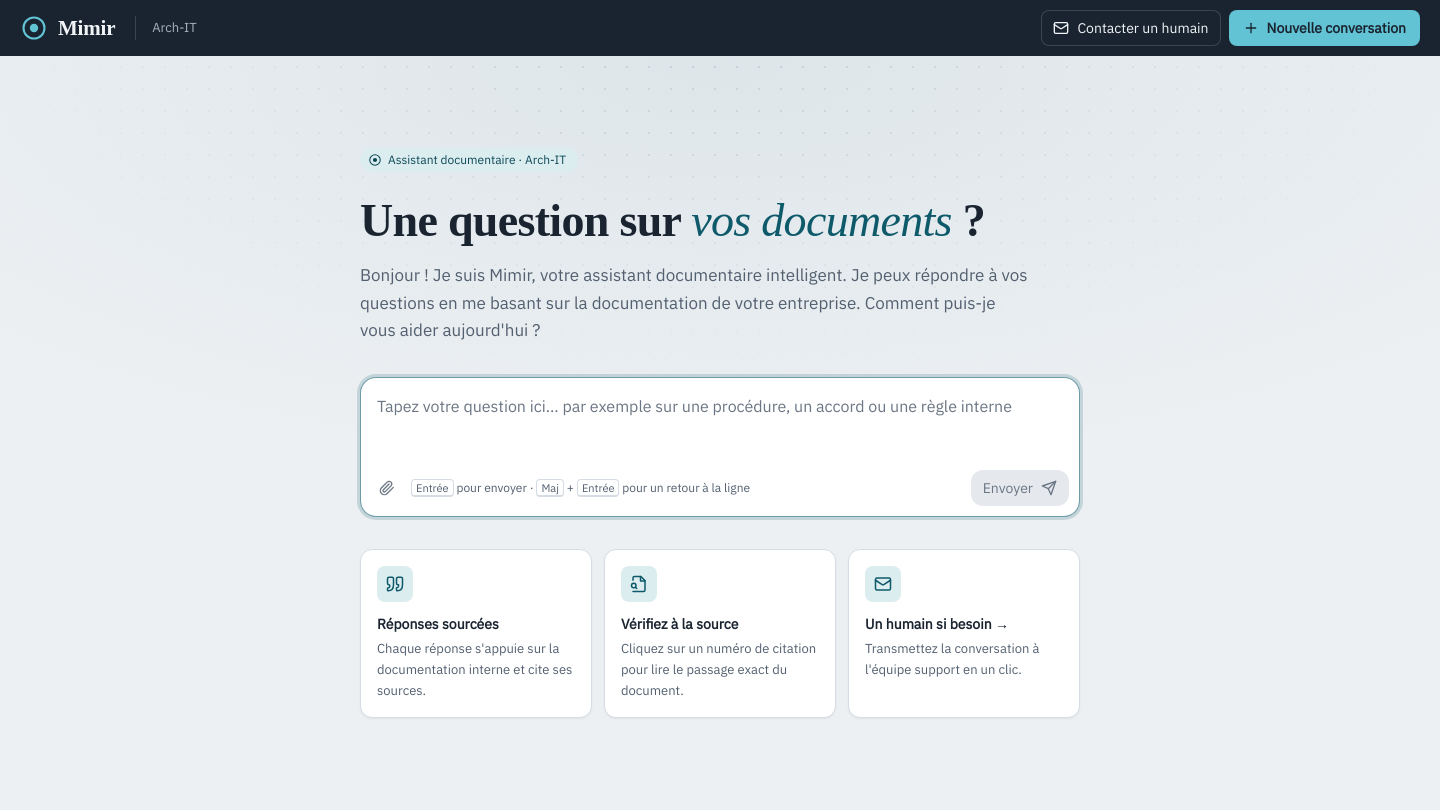
Test: ChatPage › permet d'envoyer un message
Replace the text in the text box with placeholder "Tapez votre question ici" with "Test question" at (720, 422), box [361, 378, 1079, 466]
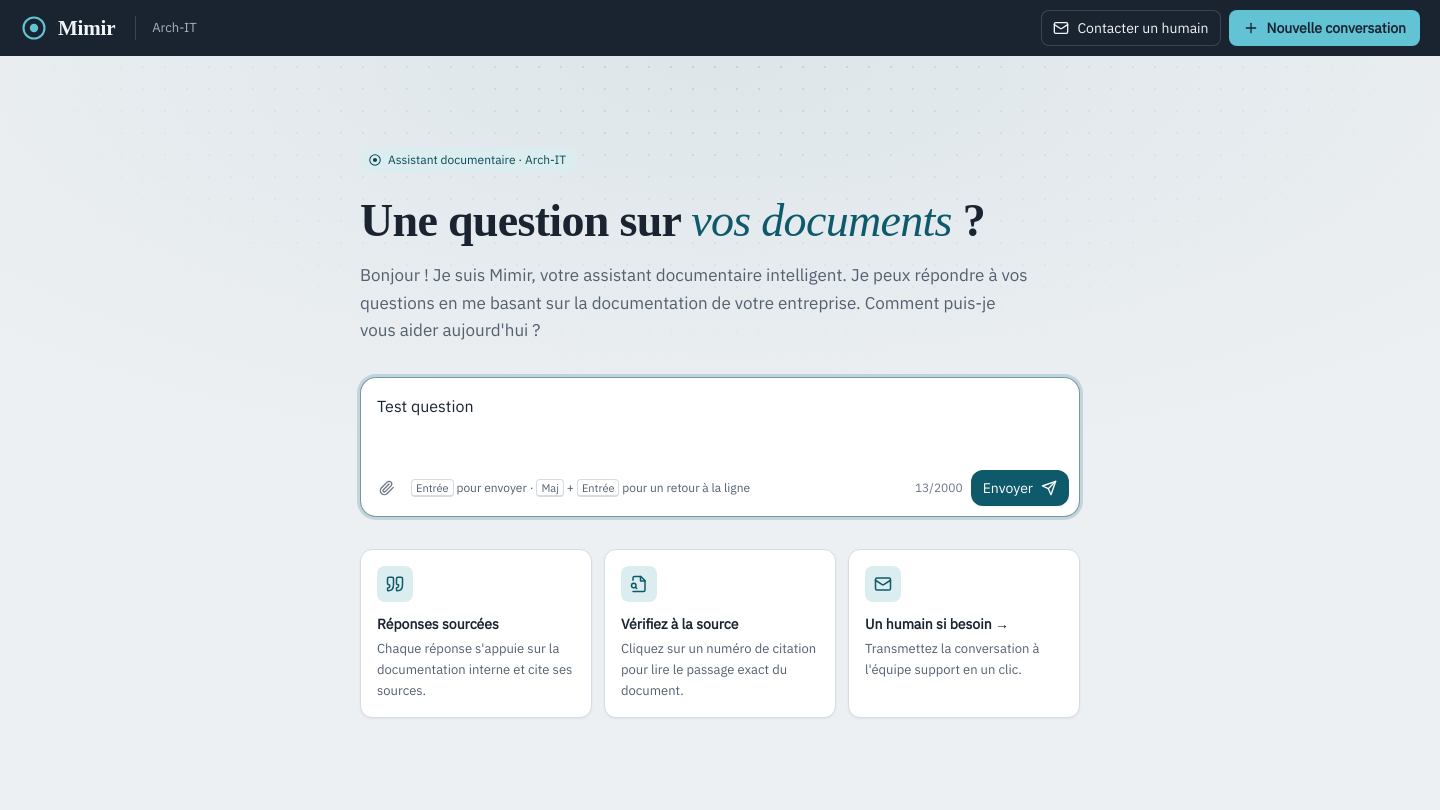
Click the button titled "Envoyer le message" at (1020, 488), box [971, 470, 1069, 506]
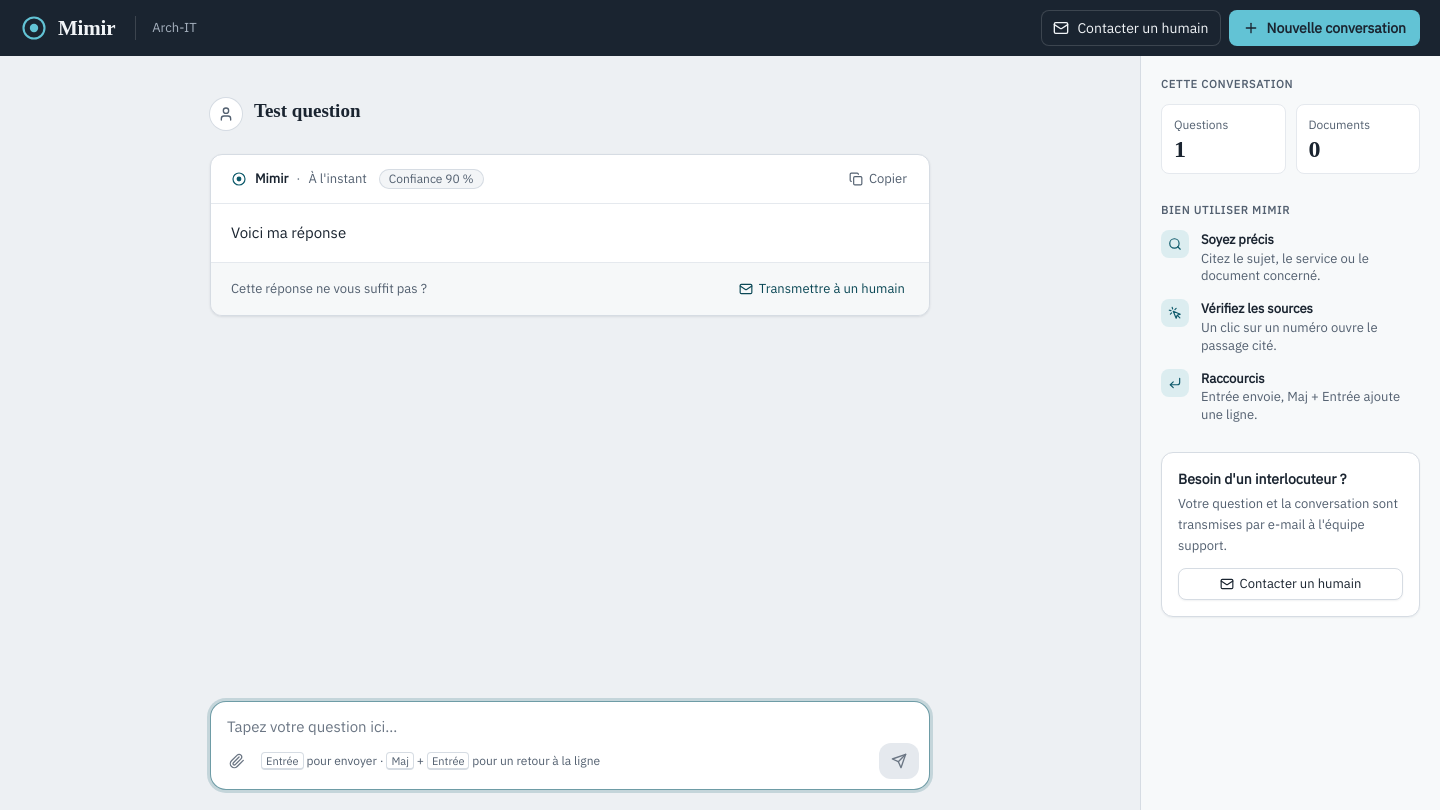
Result: the text "Voici ma réponse" is shown at [231, 223, 346, 242]
